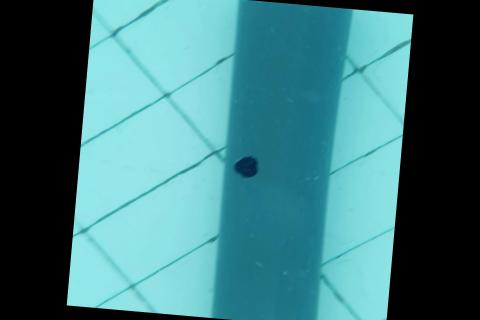kebocoran: (230, 153, 261, 180)
